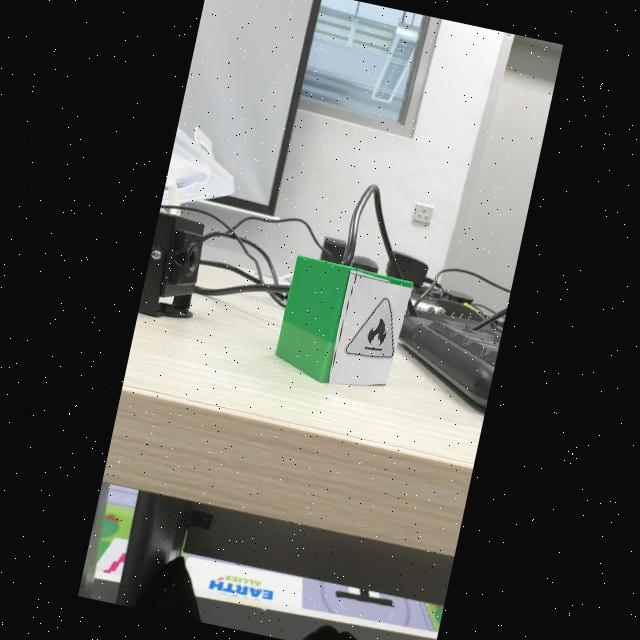Fire: (346, 298, 394, 358)
